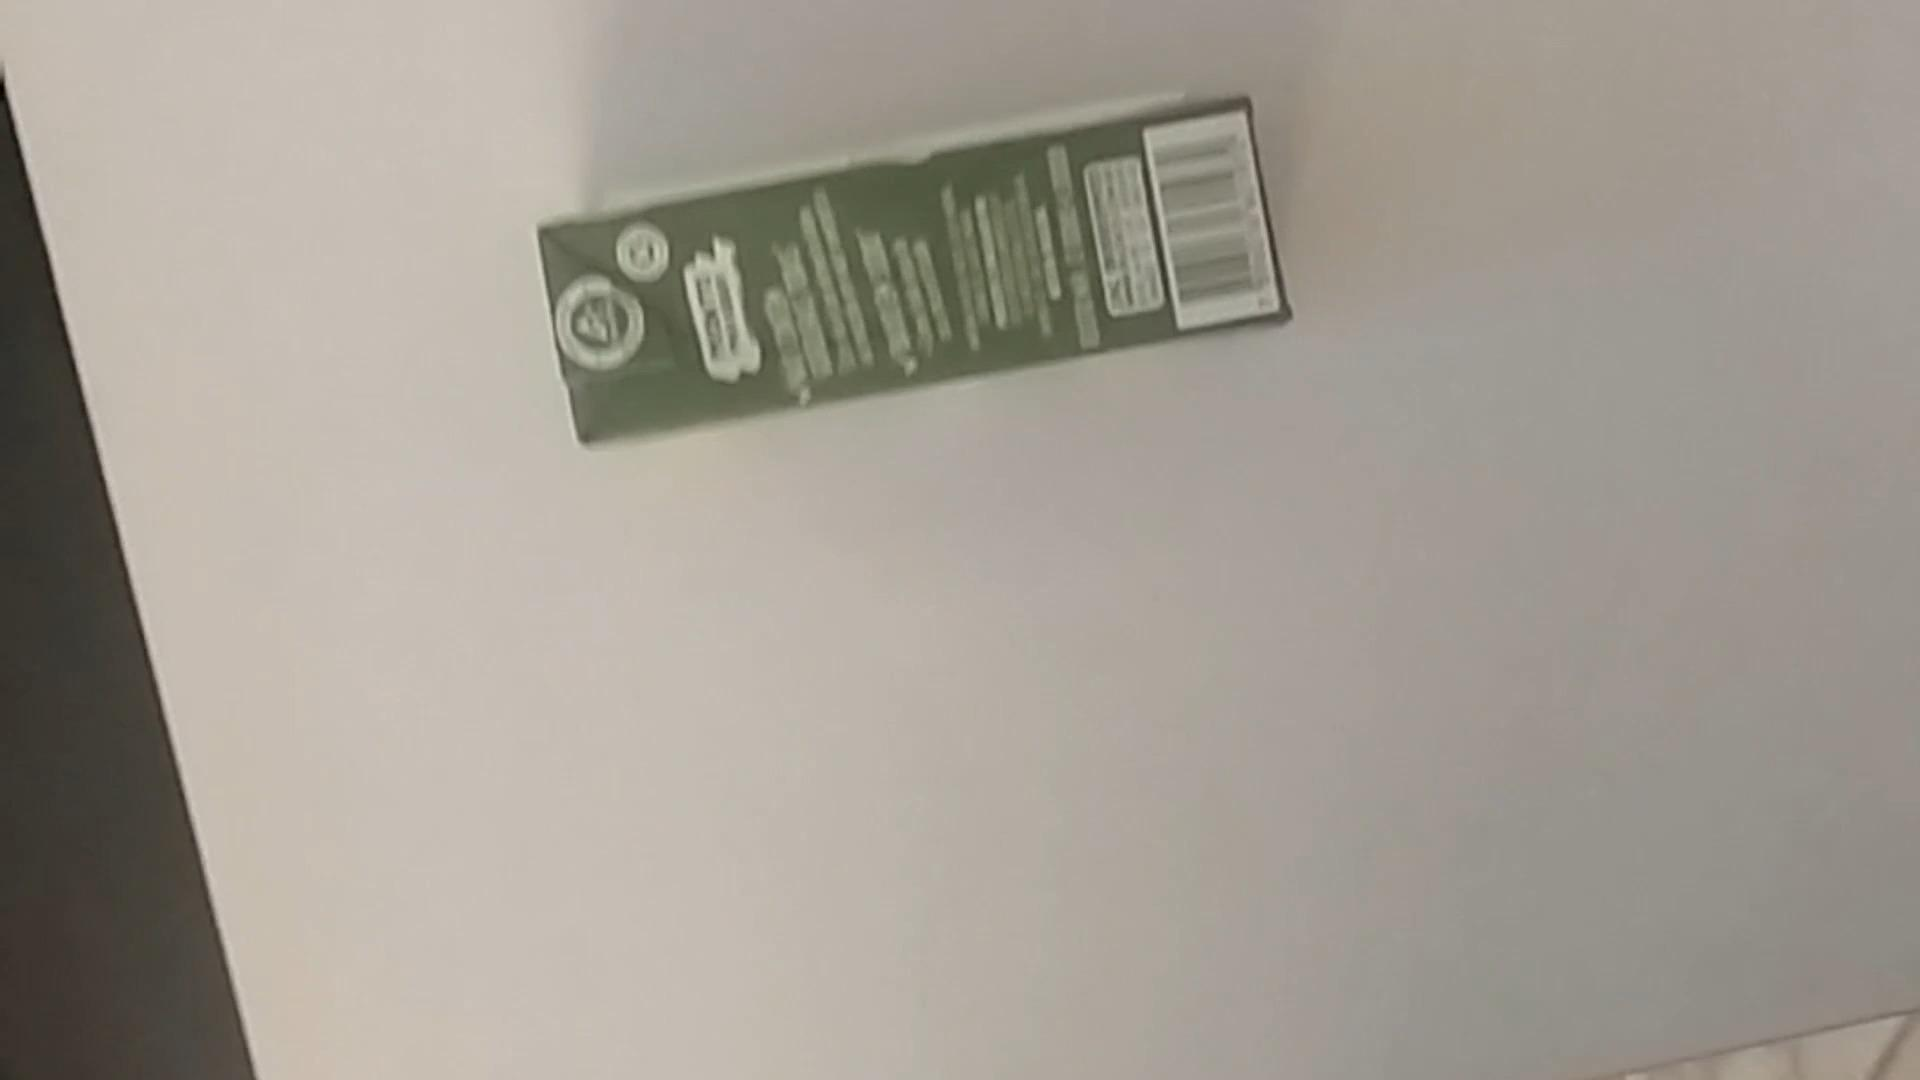coco: (530, 65, 1292, 458)
